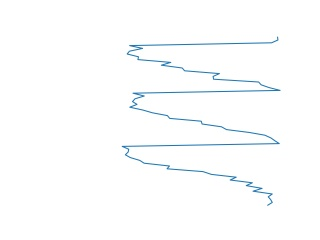distributaryMouthBar: (122, 35, 284, 209)
